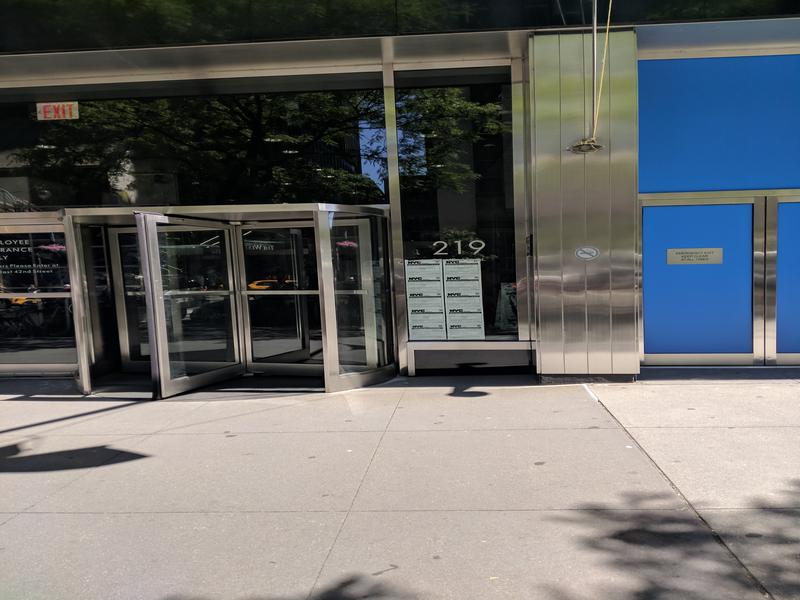revolving_door: (71, 202, 392, 398)
